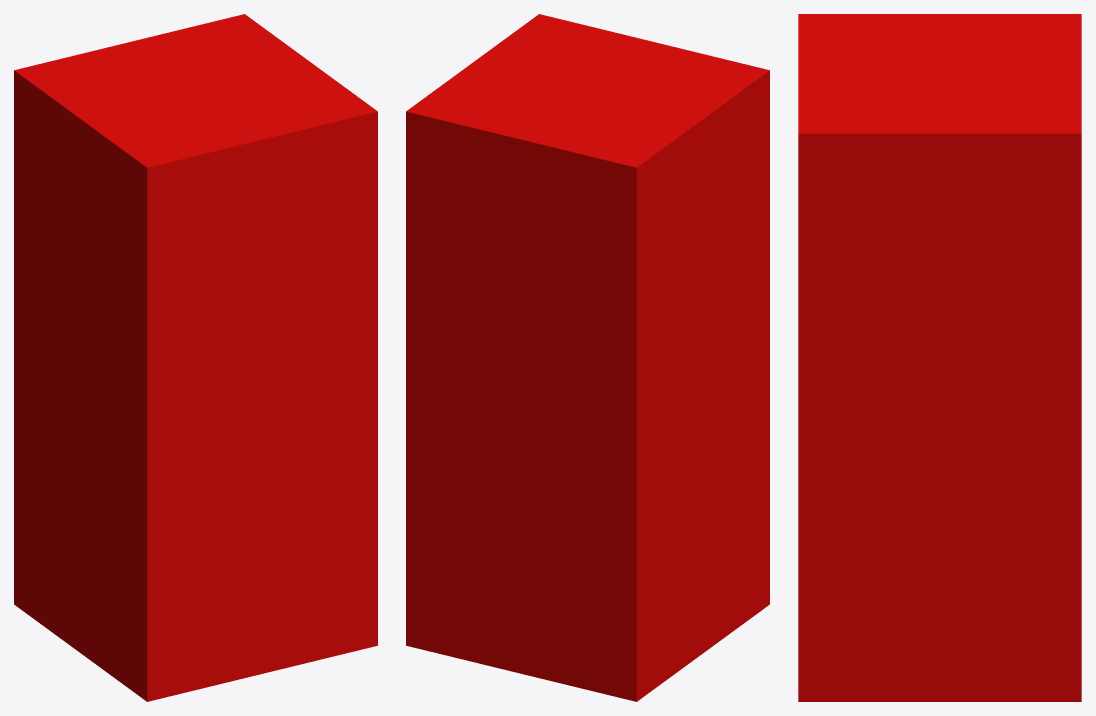
Rendered from demo.fbx.
The picture shows the model from 3 angles, left to right: view 1: azimuth 30°, elevation 25°; view 2: azimuth 150°, elevation 25°; view 3: azimuth 270°, elevation 25°; orthographic projection. The views are drawn at different scales.
Visible parts, largest first — view 1: Cube; view 2: Cube; view 3: Cube.
Part boxes in pixels (<box>): Cube: <box>14,14,377,701</box>; Cube: <box>406,14,769,701</box>; Cube: <box>798,14,1081,701</box>.
Bounding box in the file's own units: 200 × 442 × 200.
